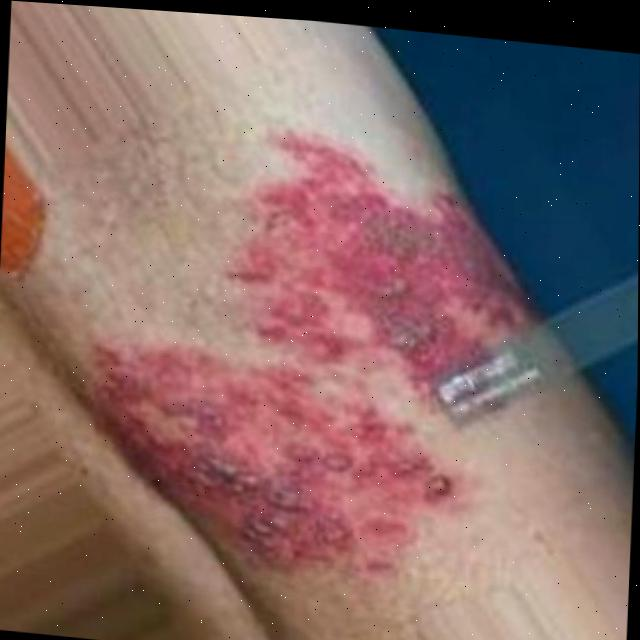Shingles: (85, 333, 454, 584), (222, 123, 536, 399)
